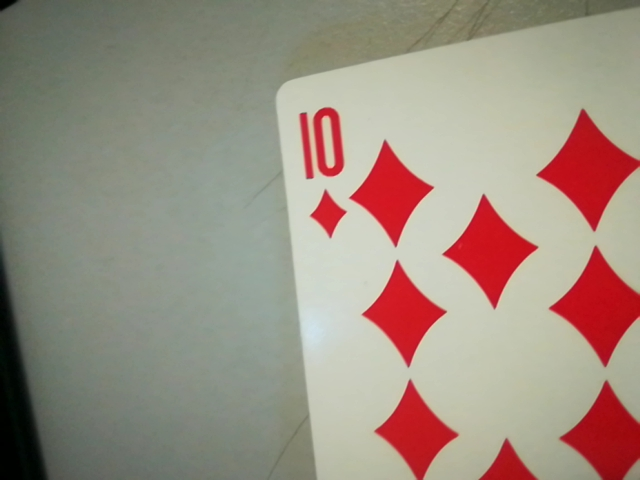fk 10: (287, 95, 357, 244)
